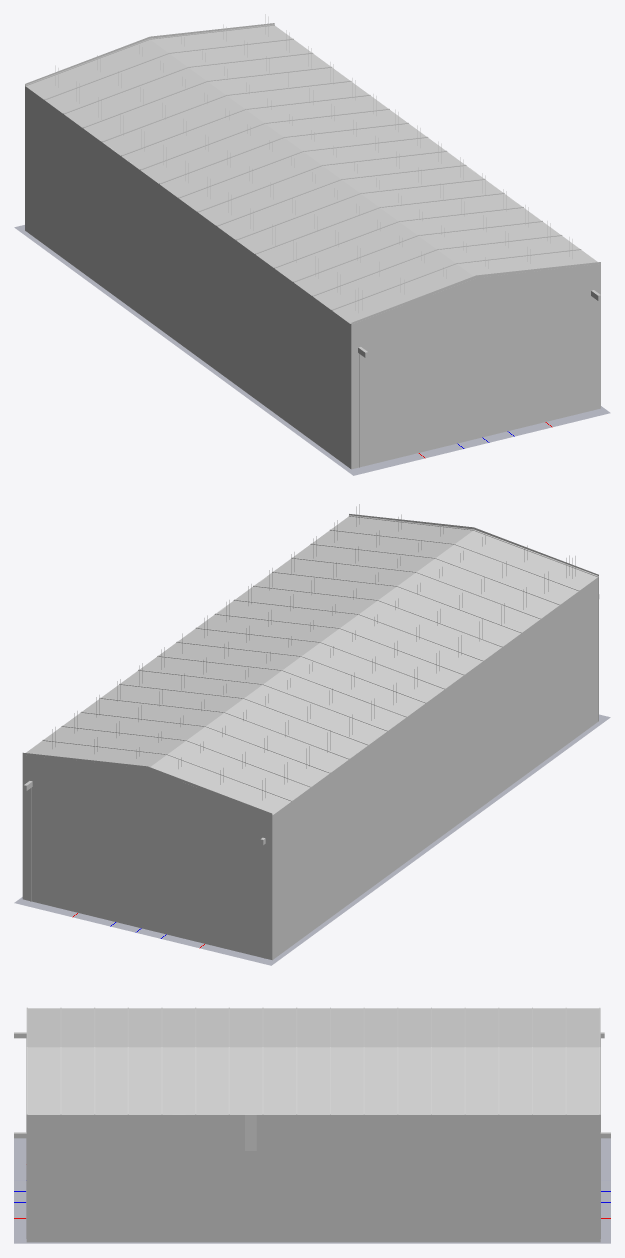
Rendered from hangar.dae.
3 views of the same model, one above another, from view 1: azimuth 30°, elevation 25°; view 2: azimuth 150°, elevation 25°; view 3: azimuth 270°, elevation 25° (orthographic). The views are drawn at different scales.
Parts seen in each view (by area): view 1: roof, walls, walls3, floor, walls2; view 2: roof, walls, walls2, floor, walls3; view 3: walls, roof, floor, vrib_1, vrib_4, vrib_7, vrib_0, vrib_10, vrib_11, vrib_13, vrib_14, vrib_16 (+7 smaller).
Part boxes in pixels (x1,y1,x2,y2): roof: (25, 25, 597, 323); walls: (25, 86, 351, 468); walls3: (351, 262, 600, 469); floor: (14, 225, 610, 475); walls2: (25, 23, 274, 85); roof: (26, 516, 597, 814); walls: (272, 577, 598, 959); walls2: (22, 752, 272, 959); floor: (14, 714, 610, 965); walls3: (349, 514, 598, 720); walls: (28, 1115, 600, 1242); roof: (28, 1008, 600, 1114); floor: (14, 1138, 610, 1243); vrib_1: (60, 1007, 61, 1242); vrib_4: (161, 1007, 162, 1242); vrib_7: (262, 1007, 263, 1242); vrib_0: (26, 1007, 27, 1242); vrib_10: (363, 1007, 364, 1242); vrib_11: (397, 1007, 398, 1242); vrib_13: (464, 1007, 465, 1242); vrib_14: (498, 1007, 499, 1242); vrib_16: (565, 1007, 566, 1242).
Size of the model in its own units: 38.81 by 88.65 by 24.21.
